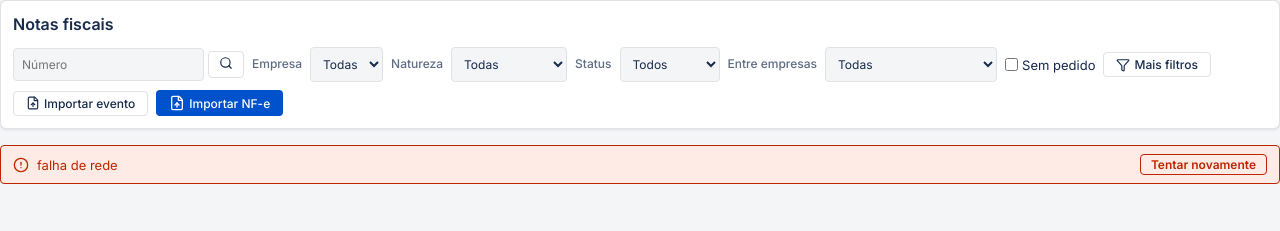
Test: Notas › mostra o vazio conforme o filtro e o erro com nova tentativa
The width and height of the screenshot is (1280, 231).
Expected: the text "falha de rede" is shown, top-left (37, 156), bottom-right (118, 174)
Click the button "Tentar novamente" at x=1203, y=165, box top-left (1140, 154), bottom-right (1267, 175)
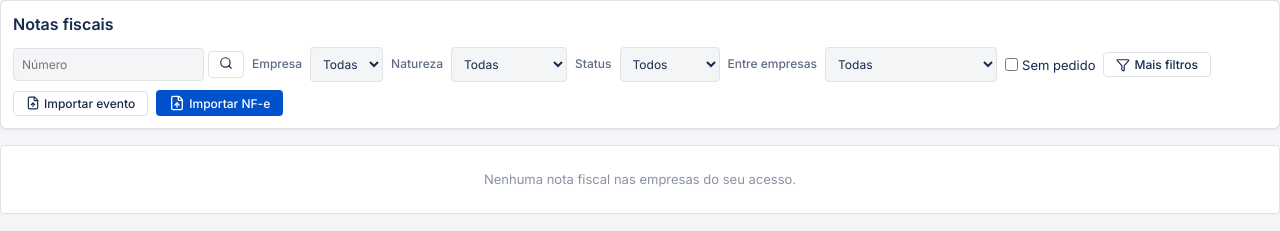
Expected: the text "Nenhuma nota fiscal nas empresas do seu acesso." is shown, top-left (0, 145), bottom-right (1279, 214)
Select "Cancelada" in the dropdown labelled "Status" at x=670, y=65, box top-left (620, 47), bottom-right (720, 82)
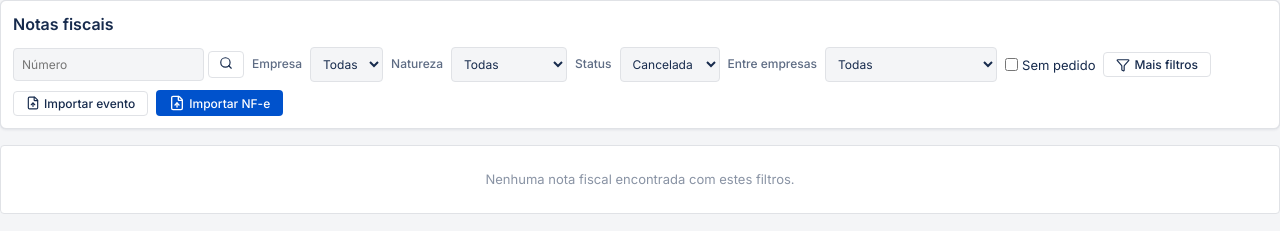
Expected: the text "Nenhuma nota fiscal encontrada com estes filtros." is shown, top-left (0, 145), bottom-right (1279, 214)
